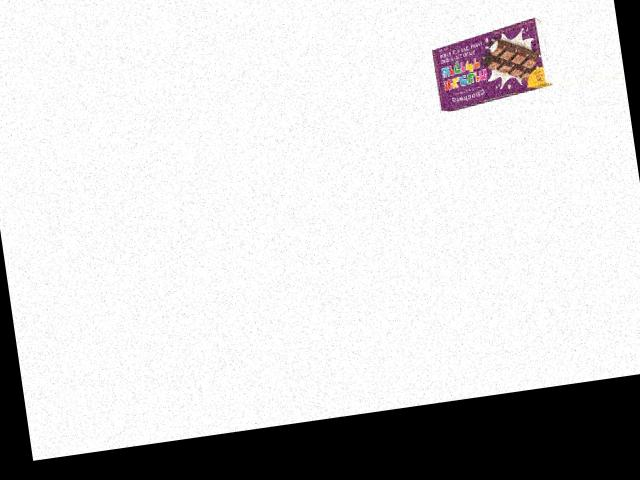chocolate: (422, 21, 556, 114)
